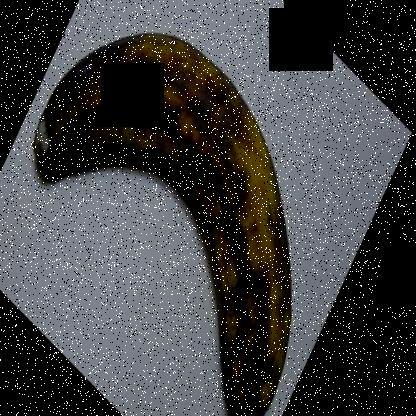overripe: (29, 0, 290, 415)
